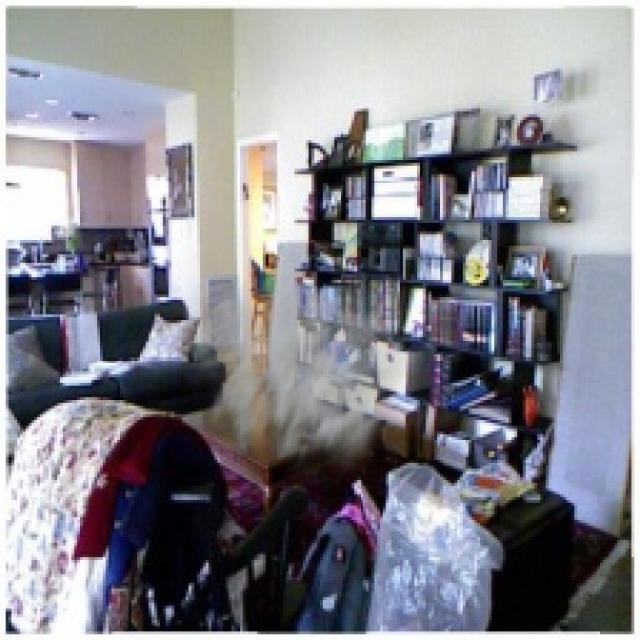Smoke: (174, 254, 423, 503)
